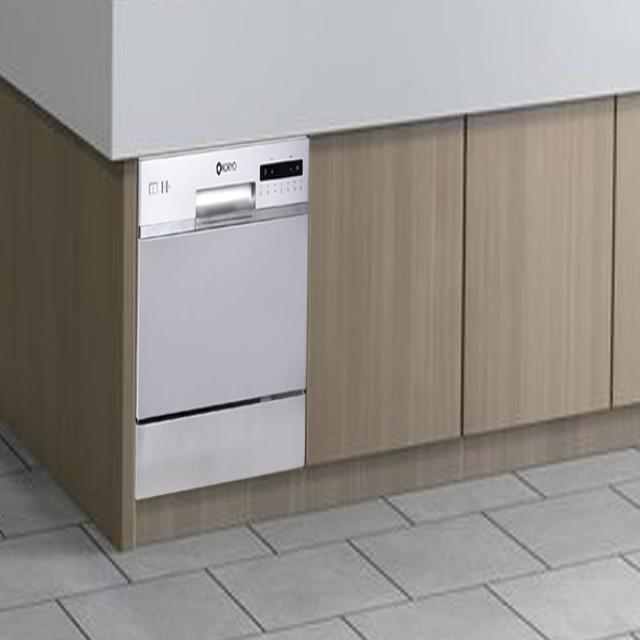dishwasher: (134, 132, 316, 505)
